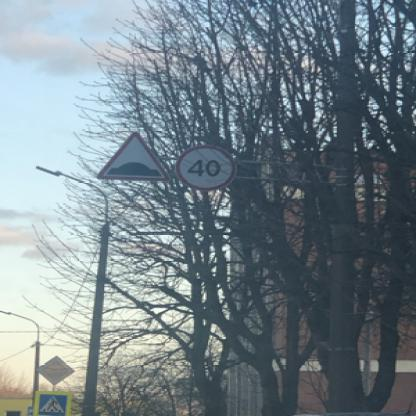crosswalk: (36, 391, 68, 414)
speedlimit: (173, 144, 233, 191)
